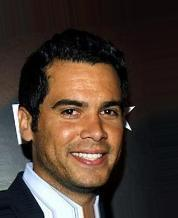face: (60, 98, 118, 165)
